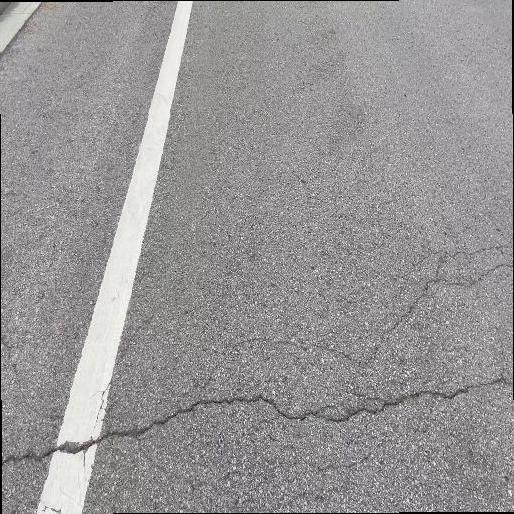Melintang: (0, 366, 514, 484)
